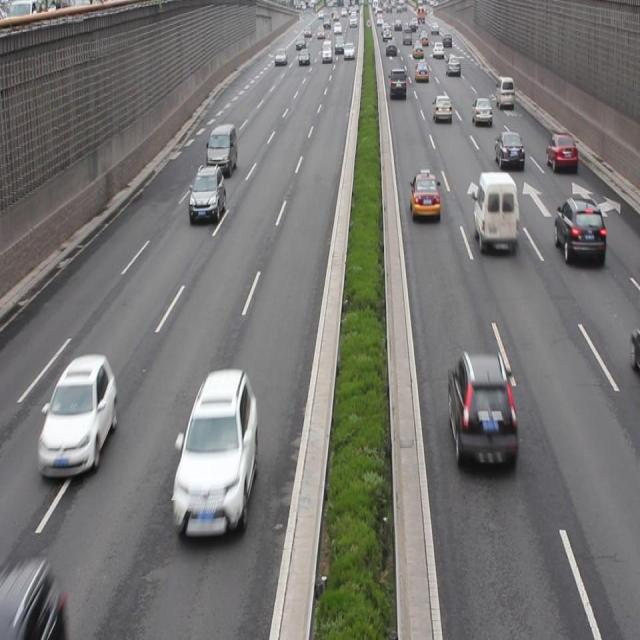car: (174, 368, 257, 536), (40, 354, 120, 482), (447, 348, 515, 477), (1, 557, 65, 631), (553, 194, 603, 263), (189, 163, 225, 221), (409, 169, 438, 223), (545, 130, 576, 173), (492, 129, 522, 170)
truck: (471, 172, 515, 254), (207, 124, 236, 175)
